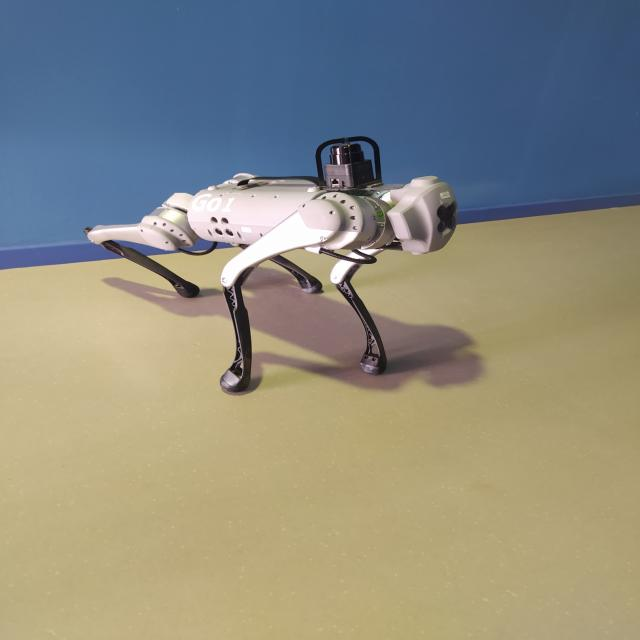unitree-go1-robot: (69, 129, 470, 393)
